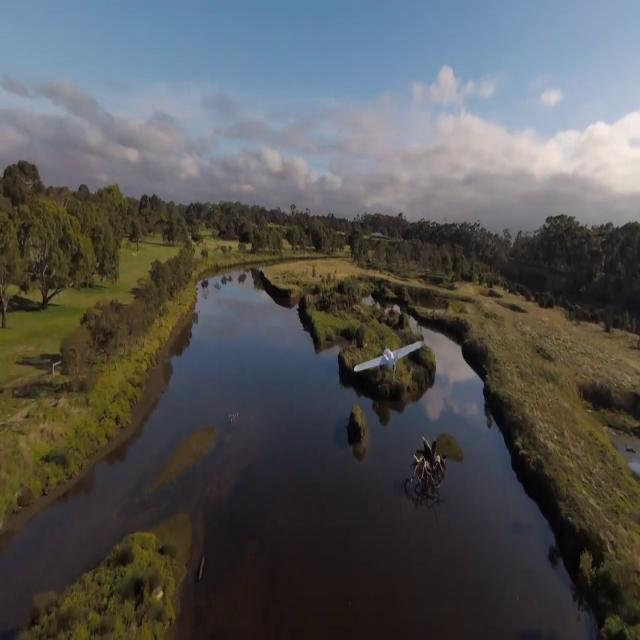iha: (386, 340, 390, 382)
